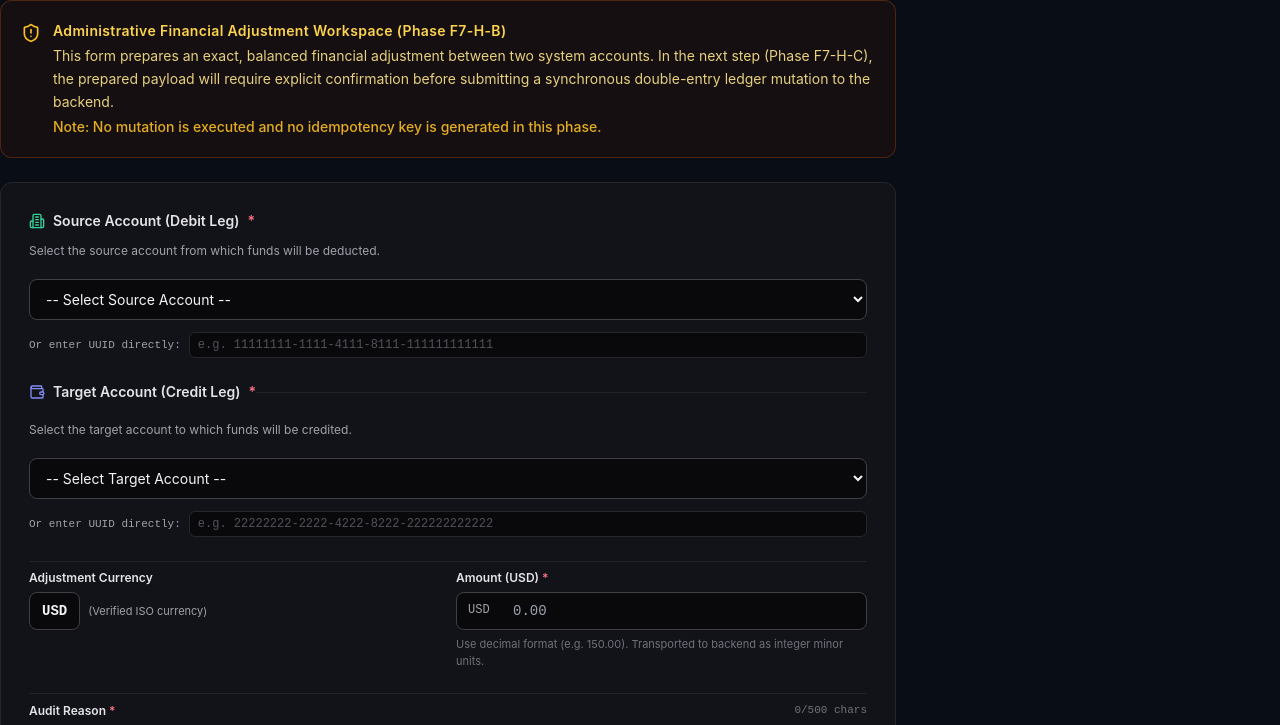
Test: Phase F7-H-B Admin Financial Adjustment Workspace & Form Component › Account Selection & Context Display › displays prominent warning when source account is FROZEN without blocking form
Select "ACCT-FROZEN-USD (INTERNAL_SETTLEMENT) — USD [FROZEN]" in the dropdown named "Source Account Selection" below "Source Account (Debit Leg)" at (448, 300), box [29,279,867,320]
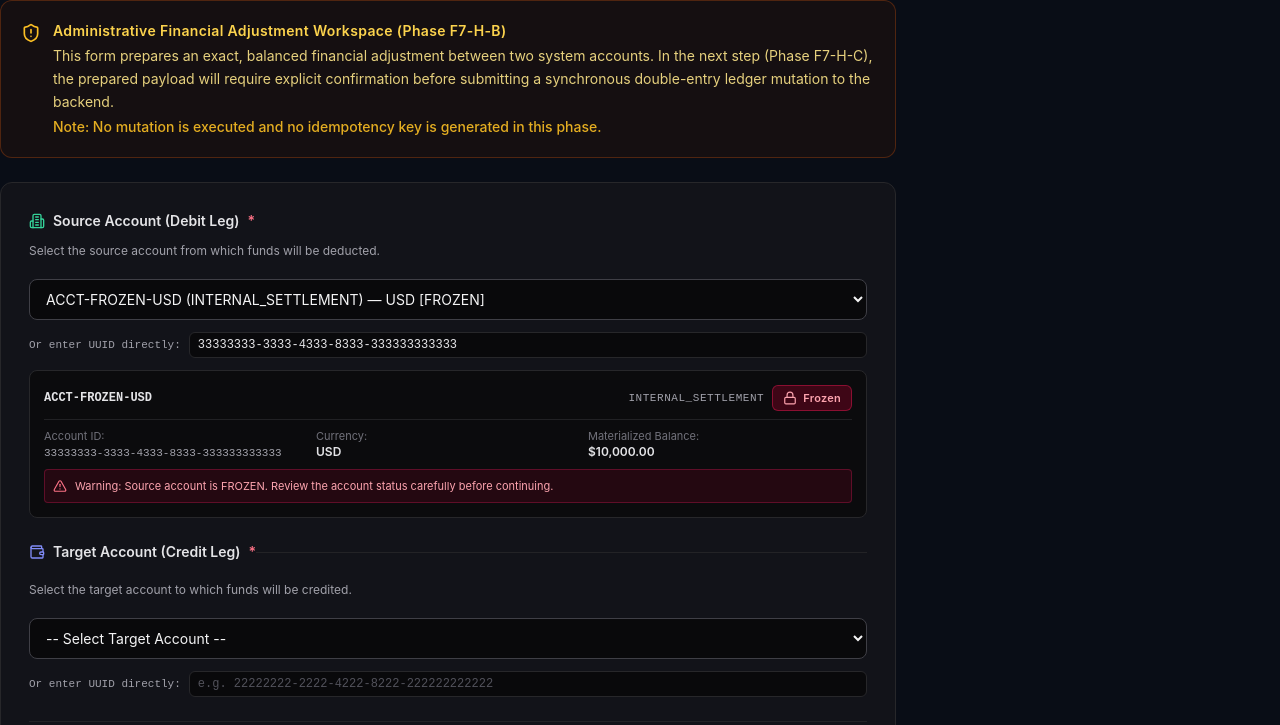
Now the message with test id "source-frozen-warning" is shown, box [44,469,852,503]
Now the text "Warning: Source account is FROZEN. Review the account status carefully" is shown, box [75,479,553,493]
